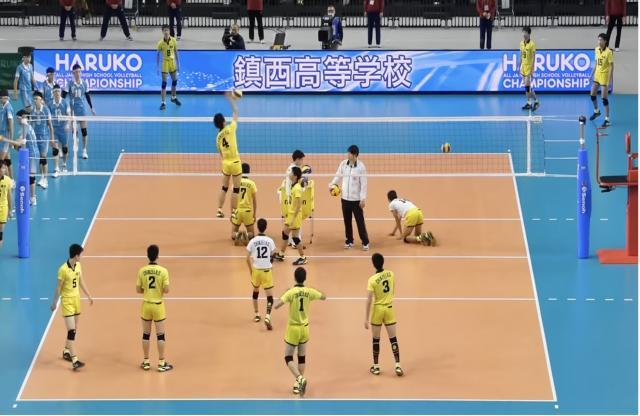spike: (210, 82, 247, 226)
